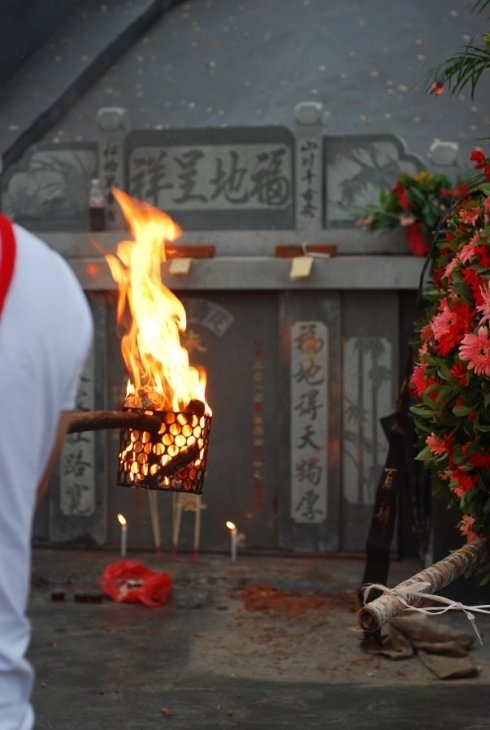fire: (94, 181, 211, 485), (114, 510, 128, 528), (222, 516, 237, 532)
